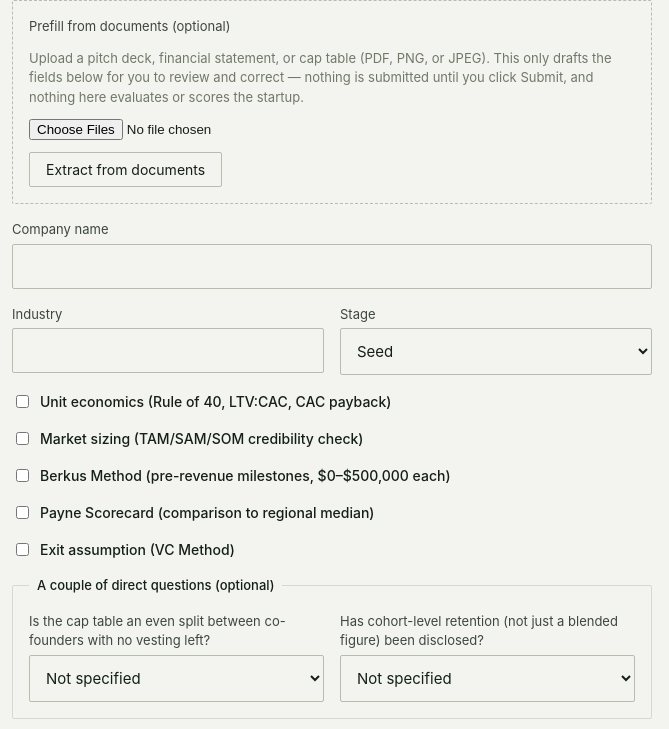
IntakeForm › only shows a section's fields once its toggle is checked
Expected: the field labelled "monthly churn" is not shown
What coordinates should you click on to do the following:
click the checkbox labelled "Unit economics (Rule of 40, LTV:CAC, CAC payback)"
I would click on:
 (22, 402)
Its box is [16,395,29,408].
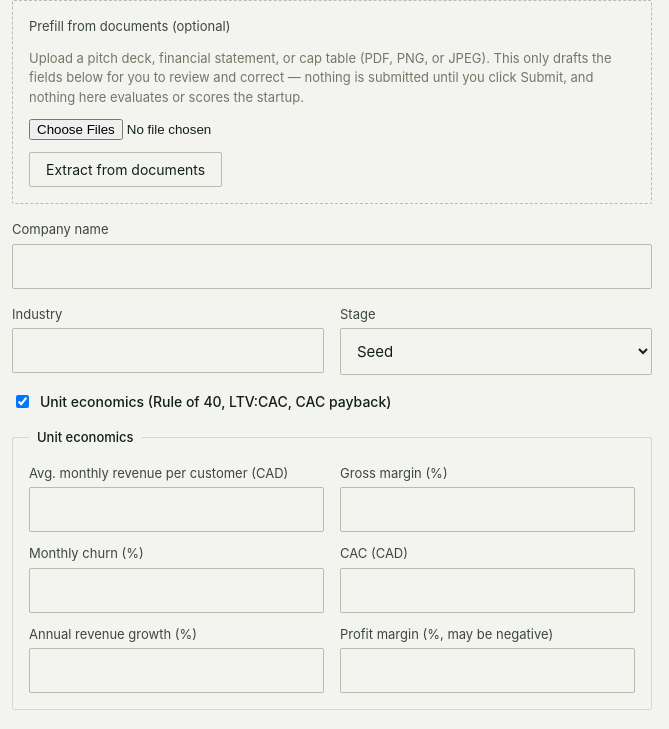
Expected: the field labelled "Monthly churn (%)" is shown, [29,568,324,612]
